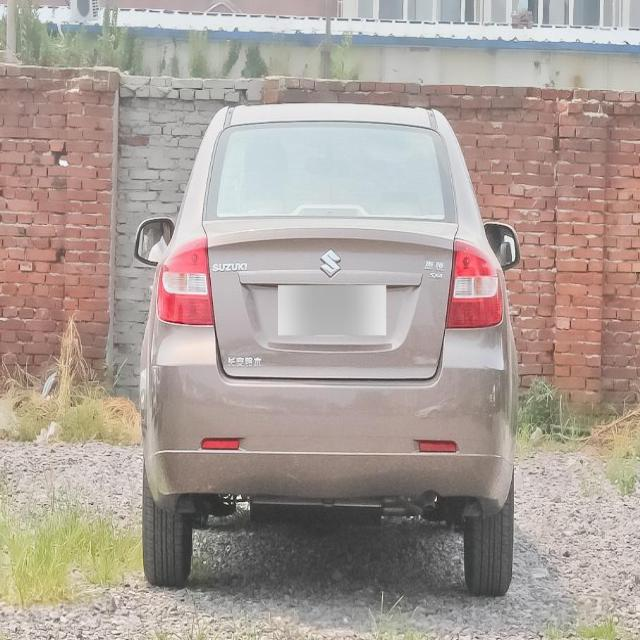back_glass: (205, 115, 458, 238)
back_left_side_light: (160, 235, 214, 333)
back_right_side_light: (446, 228, 506, 334)
front_left_side_mirror: (132, 214, 175, 273)
front_right_side_mirror: (482, 217, 522, 277)
rear_bumper: (140, 334, 514, 514)
